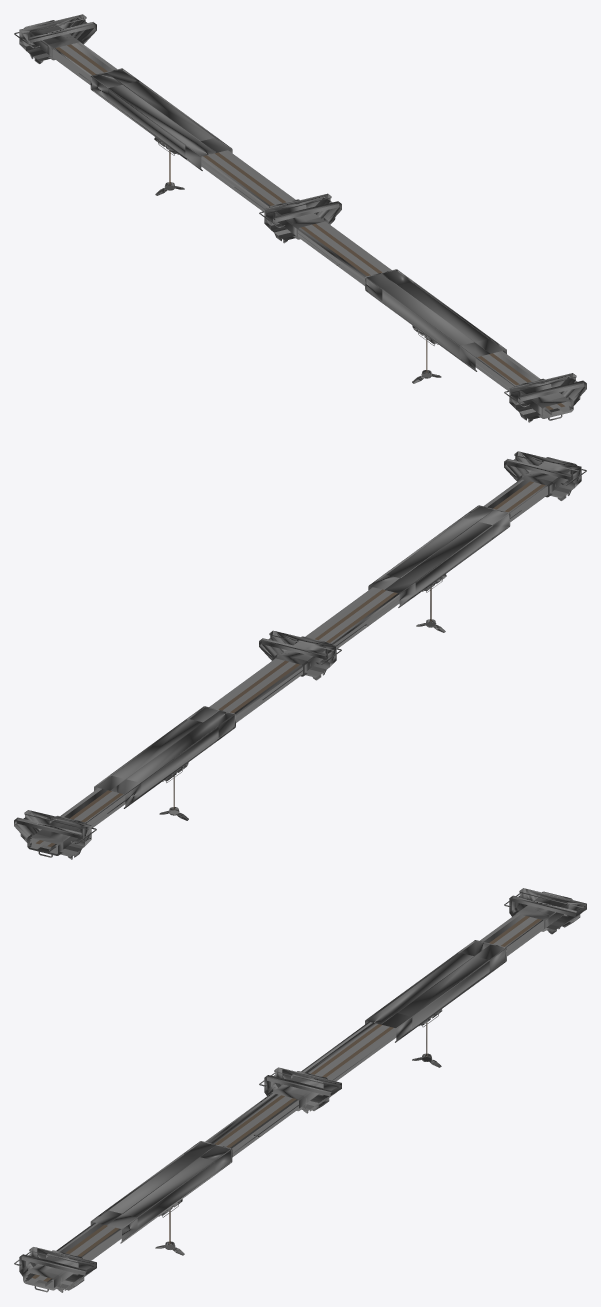
File: crane_120x10x04_a.glb
3 renders of one model, top to bottom at view 1: azimuth 30°, elevation 25°; view 2: azimuth 150°, elevation 25°; view 3: azimuth 330°, elevation 25°, orthographic.
Size of the model in its own units: 8.97 by 10.14 by 121.
